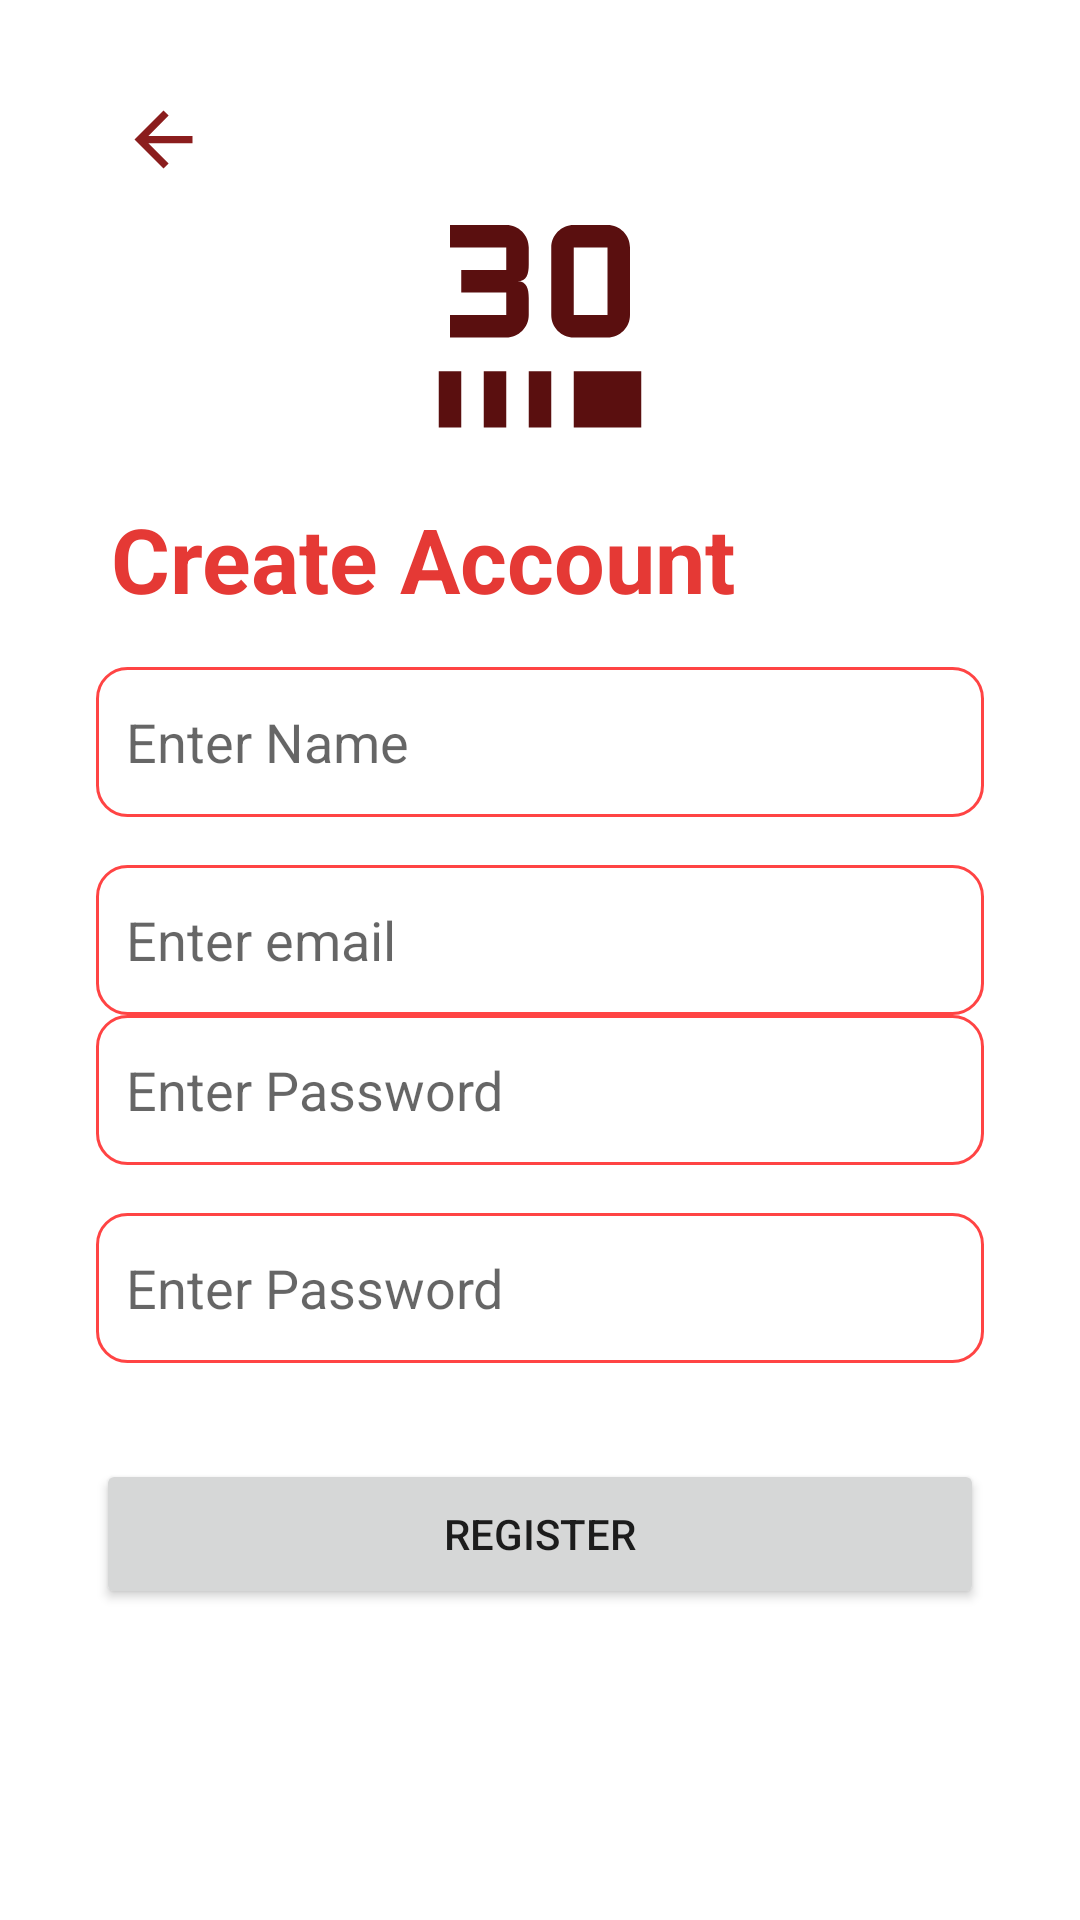

Icon click points for this 1080 x 1920 phone screenshot, format (x,y):
arrow back: (163,139)
